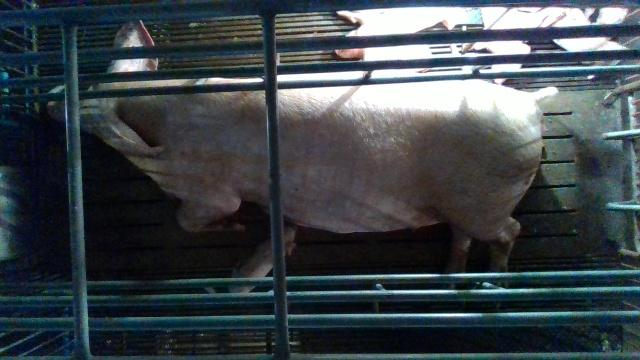piglet: (335, 10, 474, 57)
sow-sit: (29, 22, 559, 292)
